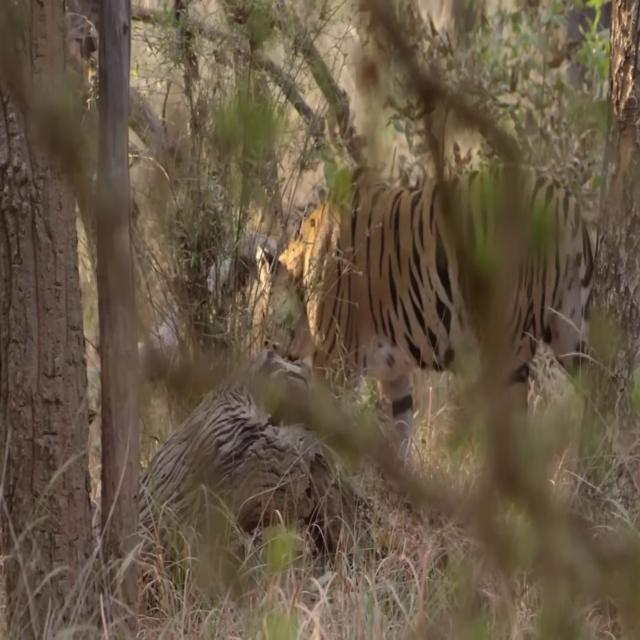tiger: (248, 176, 593, 464)
